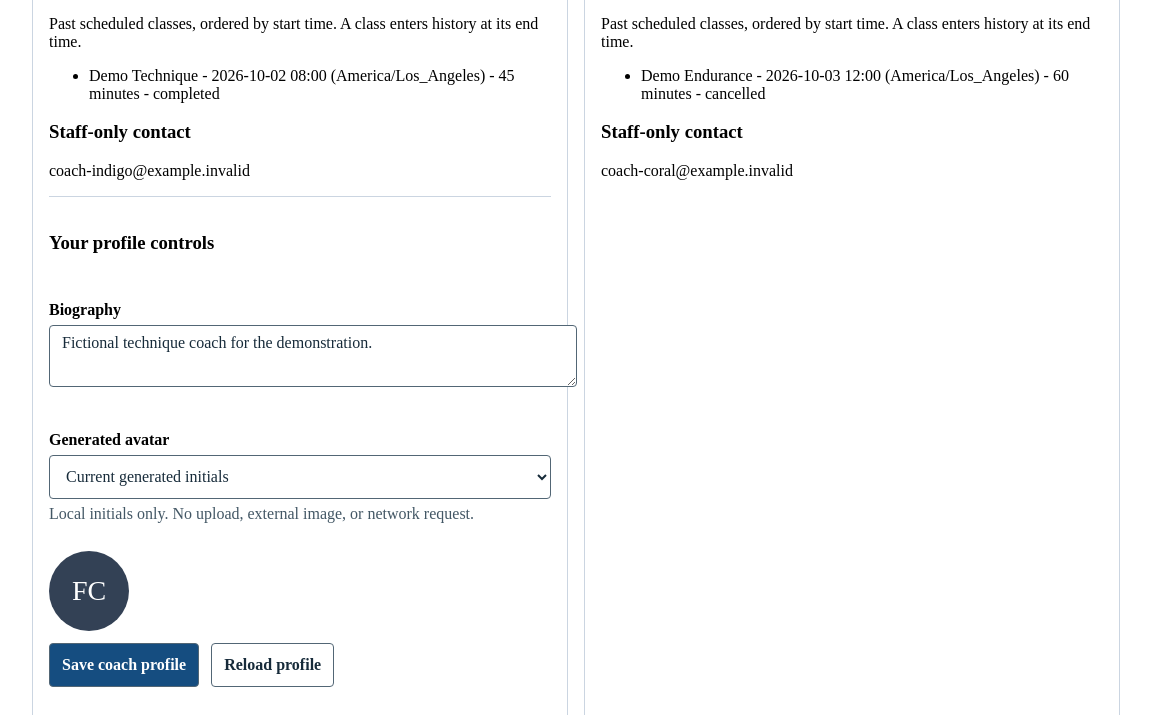
Test: Coach profile editing › rejects stale drafts with visible feedback until the user reloads current fields
(page scrolled)
Replace the text in the text box labelled "Biography" with "Unsaved draft." at (313, 356), box x1=49 y1=325 x2=577 y2=387
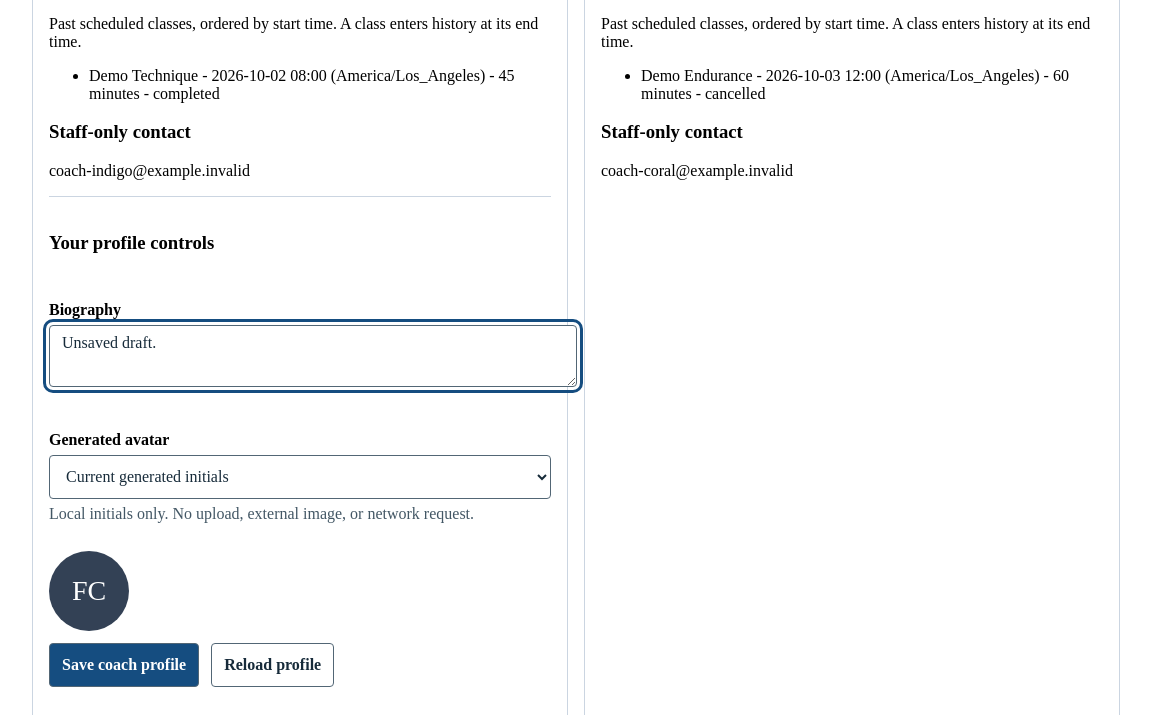
Click the button "Save coach profile".
click(124, 665)  # box x1=49 y1=643 x2=199 y2=687
(page scrolled)
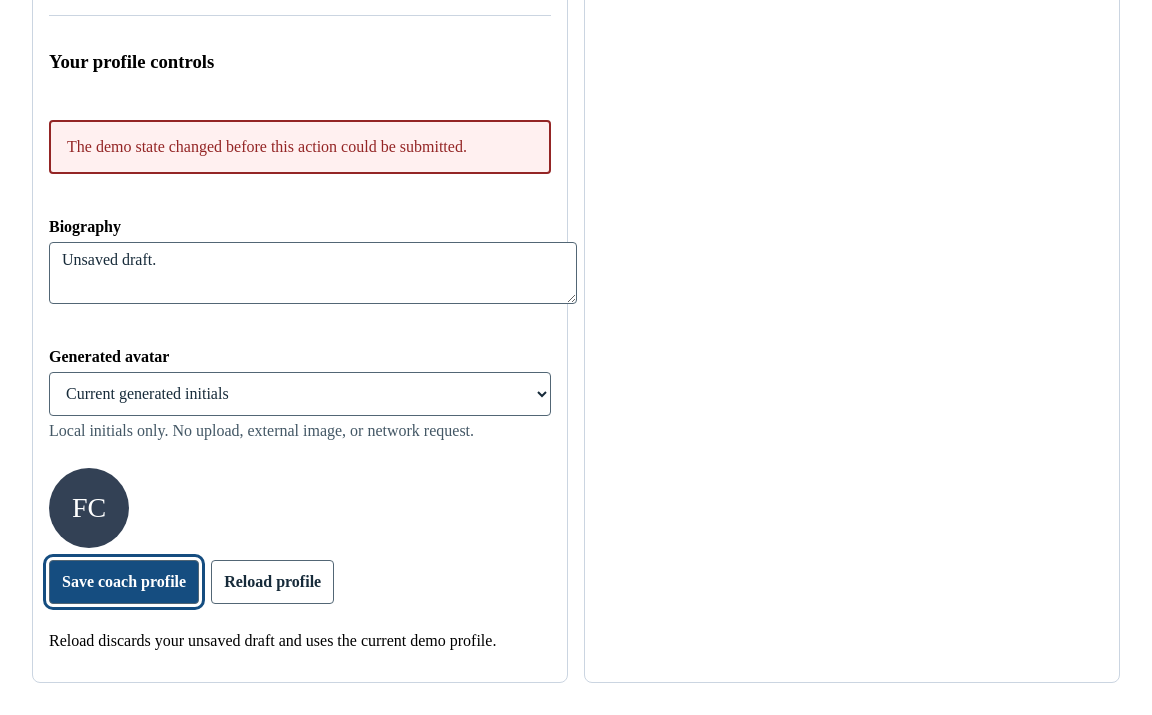
Click the button "Reload profile".
click(273, 582)  # box x1=211 y1=560 x2=334 y2=604
(page scrolled)
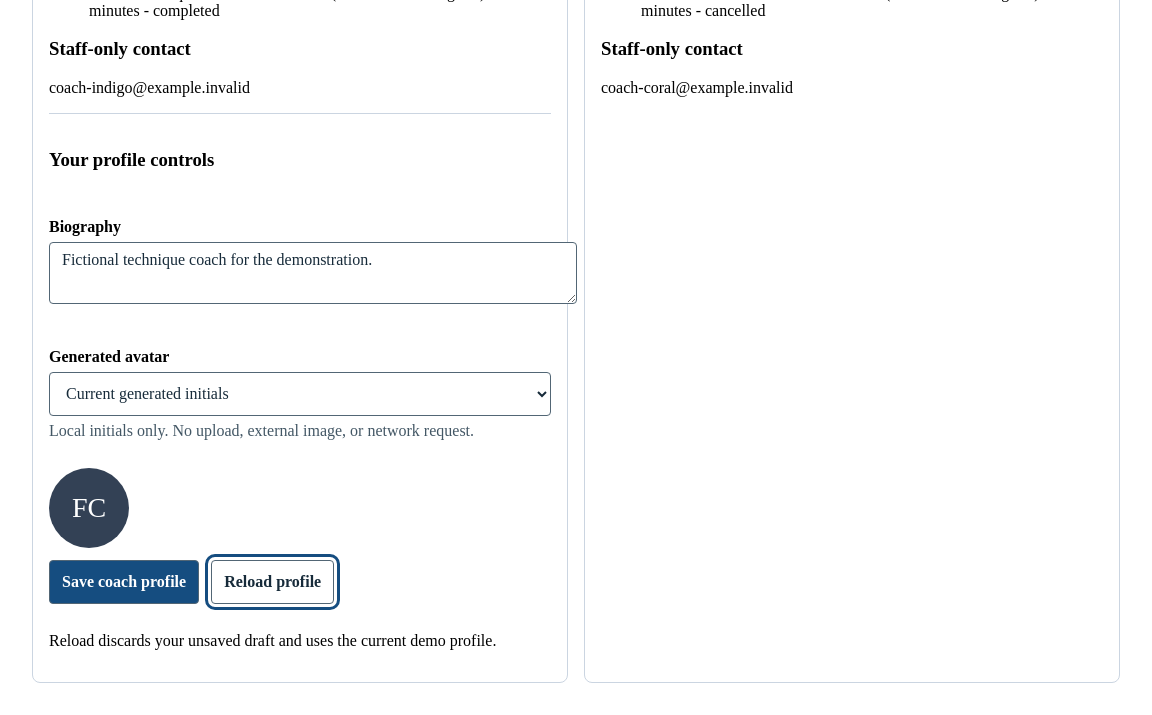
Type " Current edit." into the text box labelled "Biography".
click(313, 273); type(" Current edit.")  # box x1=49 y1=242 x2=577 y2=304
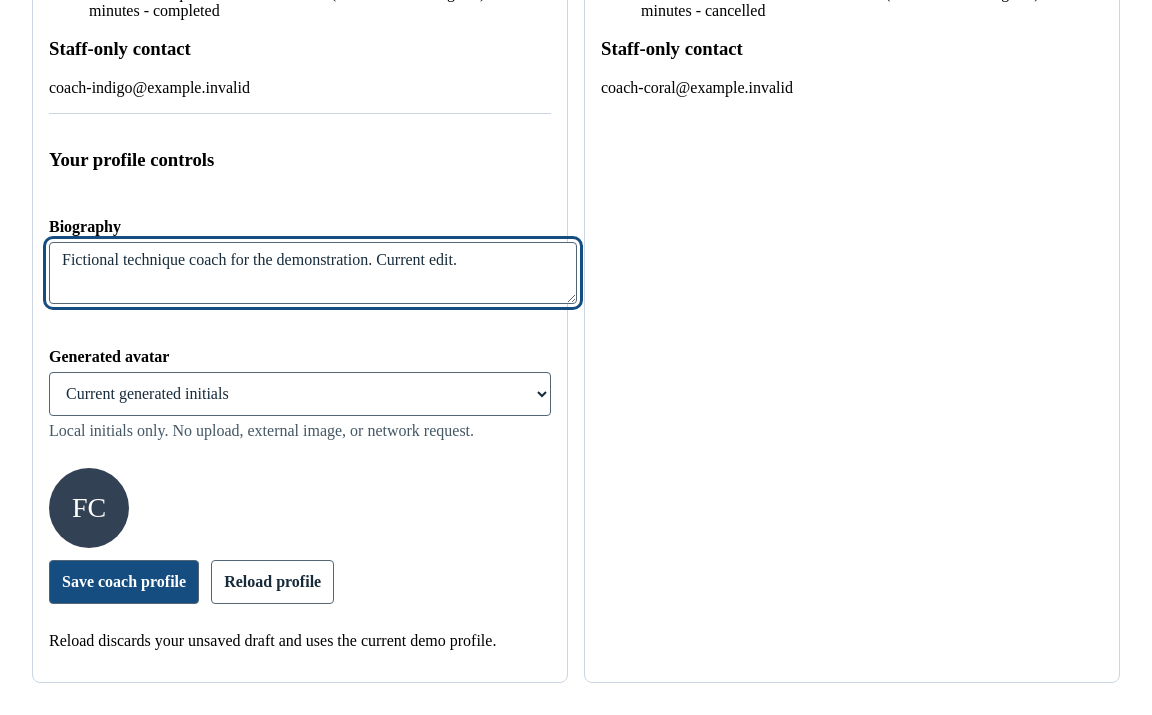
Click the button "Save coach profile".
click(124, 582)  # box x1=49 y1=560 x2=199 y2=604
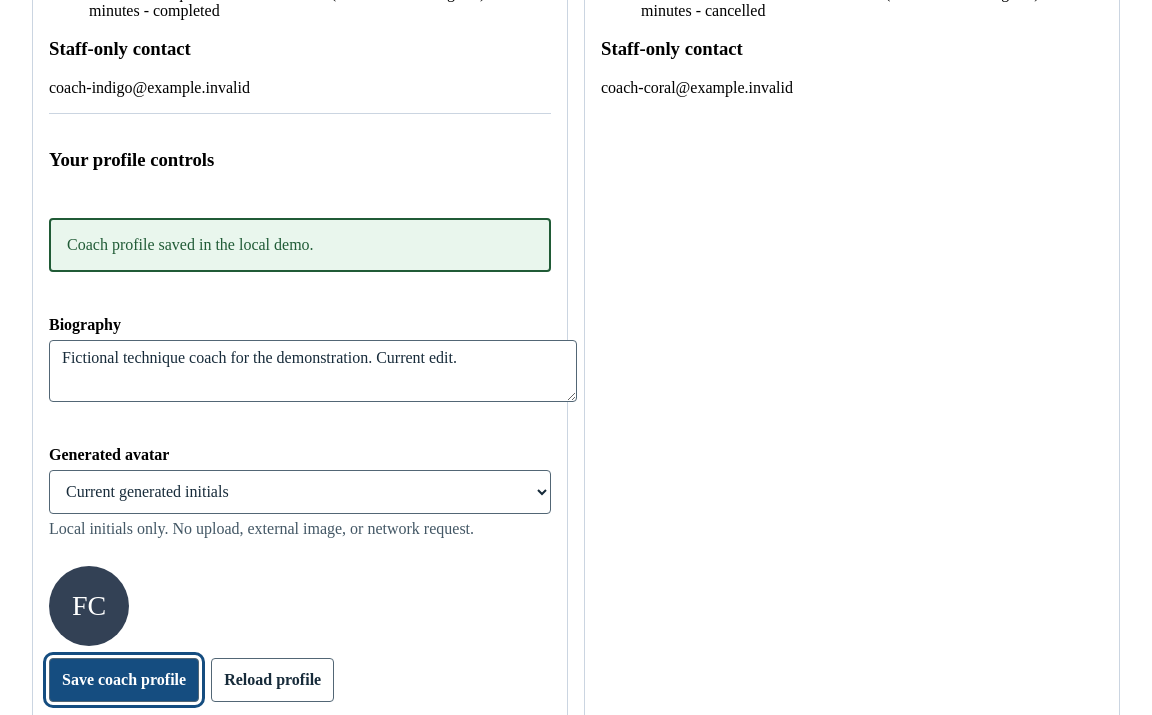
Result: the message shows "Coach profile saved" at x1=67 y1=236 x2=314 y2=253
